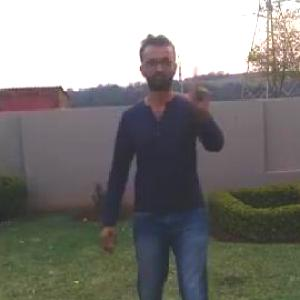land_hand: (169, 62, 215, 114)
